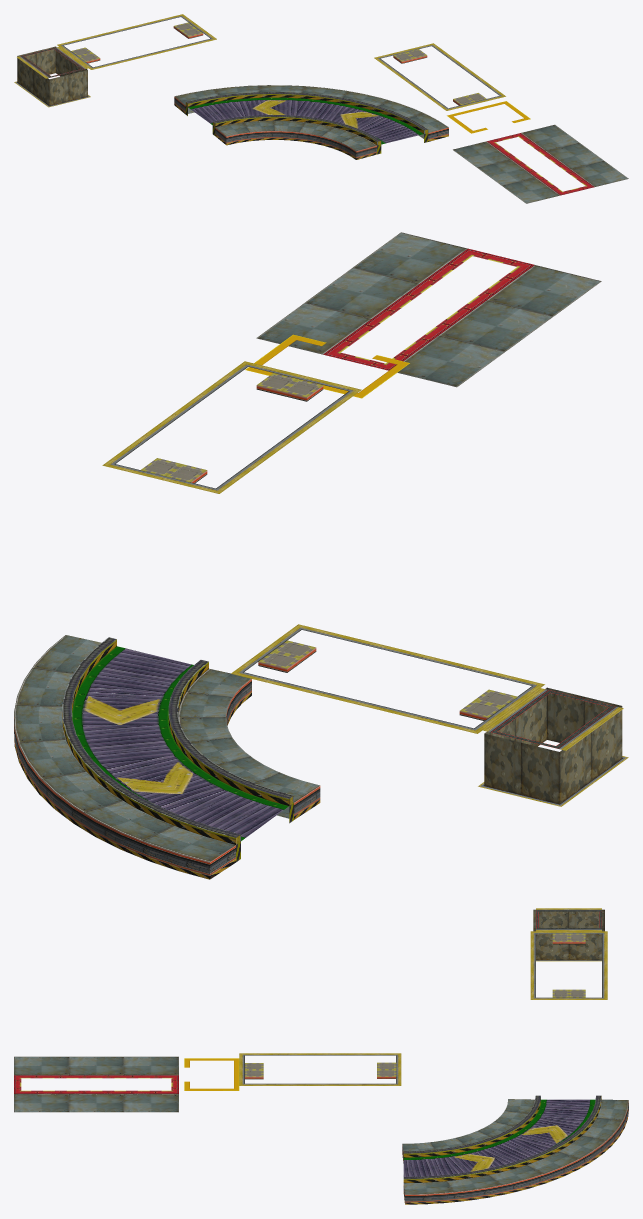
Rendered from STG08_ONS_03.obj.
3 renders of one model, top to bottom at view 1: azimuth 30°, elevation 25°; view 2: azimuth 150°, elevation 25°; view 3: azimuth 270°, elevation 25°, orthographic. The views are drawn at different scales.
Visible parts, largest first — view 1: Object_2; view 2: Object_2; view 3: Object_2.
Part boxes in pixels (x1=…): Object_2: x1=14, y1=14, x2=628, y2=203; Object_2: x1=14, y1=232, x2=628, y2=879; Object_2: x1=14, y1=908, x2=628, y2=1204.
Size of the model in its own units: 815 by 220 by 1119.
Materials: 14 (14 with a texture image).
